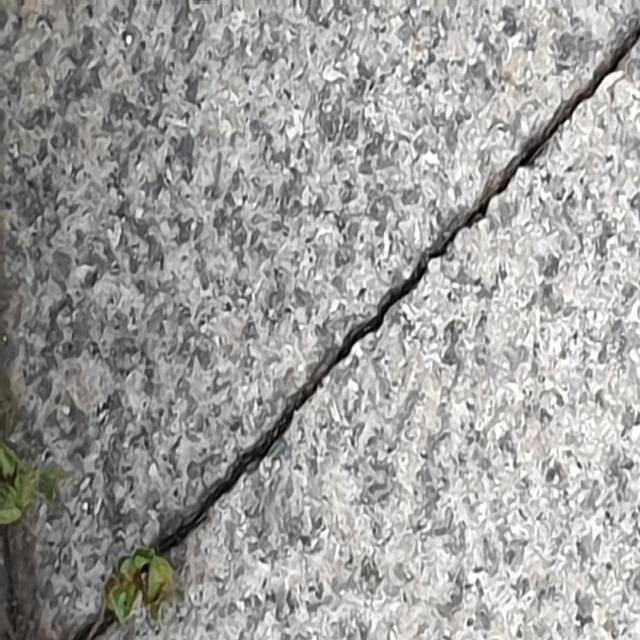SurfaceCrack: (8, 1, 639, 640)
